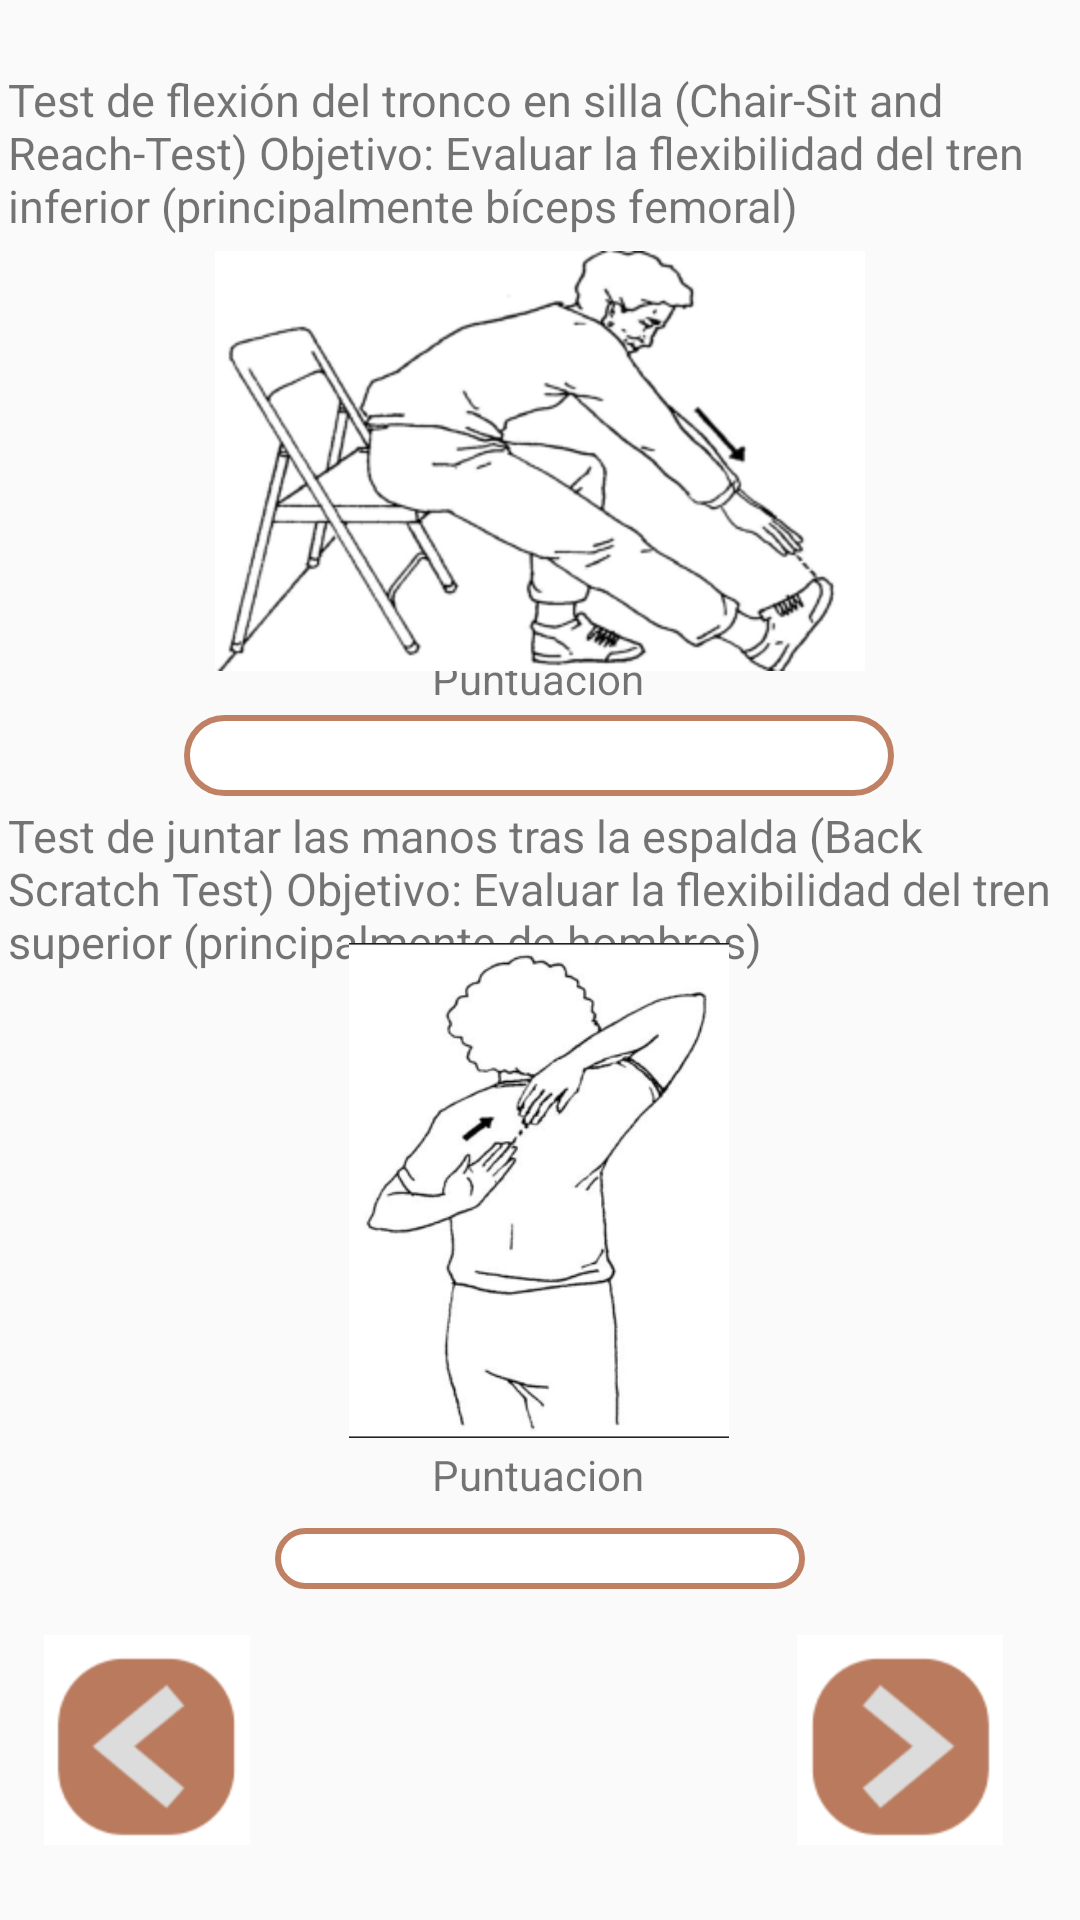

Where to tap for icons on this 1080×1920 app screen, as (x,y):
regresar: (146,1747)
seguir: (901,1747)
